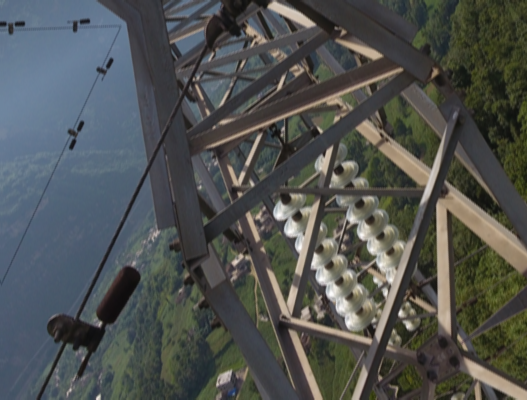damper: (65, 118, 85, 151)
damper_defect: (43, 262, 142, 384), (94, 55, 114, 82), (65, 17, 91, 33)
